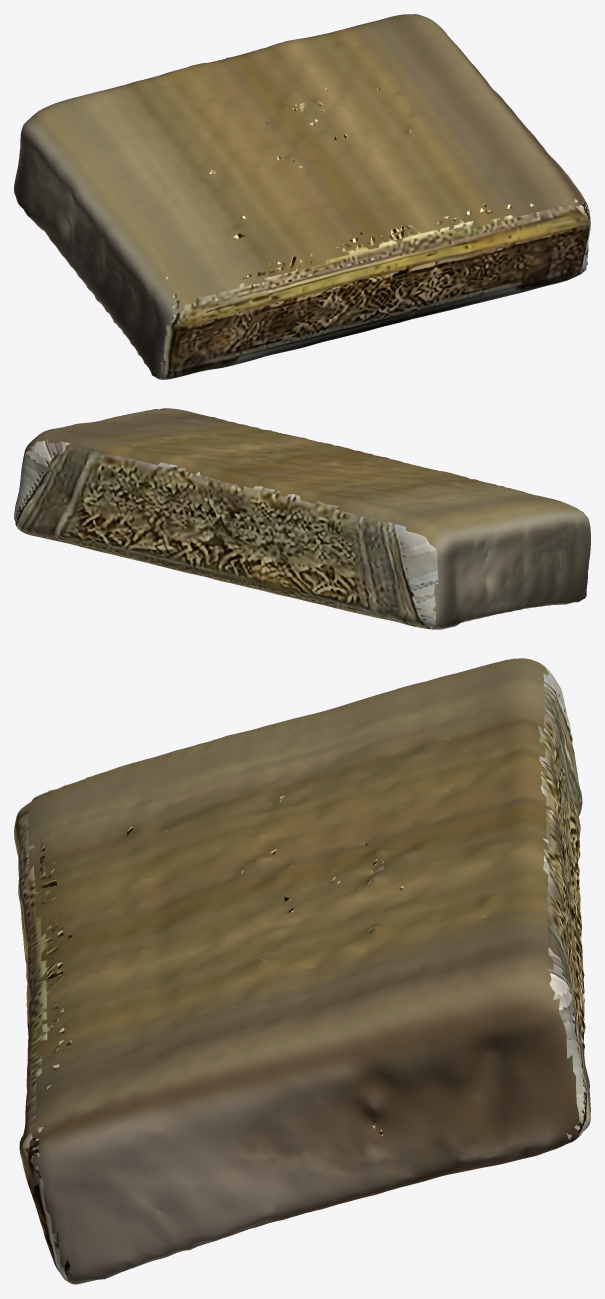
The model's file is kfl-2304.glb.
3 views of the same model, one above another, from view 1: azimuth 30°, elevation 25°; view 2: azimuth 150°, elevation 25°; view 3: azimuth 270°, elevation 25° (orthographic). The views are drawn at different scales.
Visible parts, largest first — view 1: kfl-2304; view 2: kfl-2304; view 3: kfl-2304.
Boxes of the visible parts, x1,y1,x2,y2 form: kfl-2304: (14, 14, 590, 379); kfl-2304: (14, 408, 590, 629); kfl-2304: (14, 658, 590, 1284).
Size of the model in its own units: 0.9917 by 0.3839 by 0.6571.
Materials: 4 (4 with a texture image).
